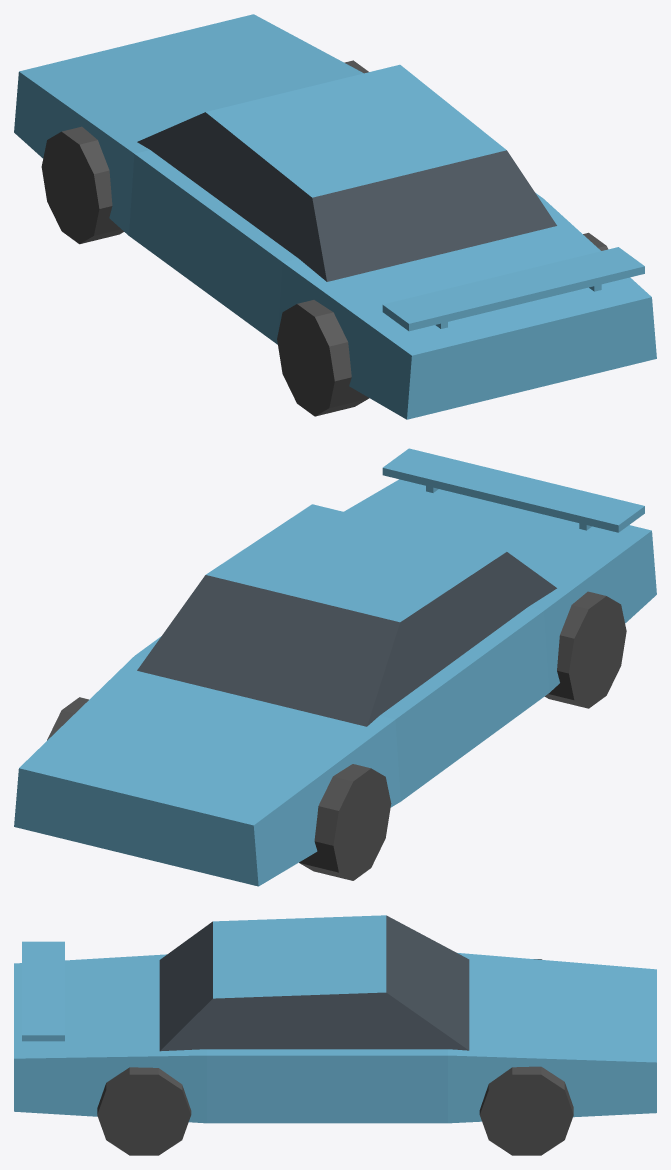
The picture shows the model from 3 angles, top to bottom: view 1: azimuth 30°, elevation 25°; view 2: azimuth 150°, elevation 25°; view 3: azimuth 270°, elevation 25°; orthographic projection. The views are drawn at different scales.
Parts seen in each view (by area): view 1: bmw_m3_body, bmw_m3_Wheel_RL, bmw_m3_Wheel_FL; view 2: bmw_m3_body, bmw_m3_Wheel_FL, bmw_m3_Wheel_RL; view 3: bmw_m3_body, bmw_m3_Wheel_FR, bmw_m3_Wheel_RR.
Part boxes in pixels (left/top/right/bottom): bmw_m3_body: left=14, top=14, right=656, bottom=419; bmw_m3_Wheel_RL: left=277, top=300, right=369, bottom=416; bmw_m3_Wheel_FL: left=41, top=126, right=123, bottom=244; bmw_m3_body: left=14, top=448, right=656, bottom=886; bmw_m3_Wheel_FL: left=299, top=764, right=391, bottom=880; bmw_m3_Wheel_RL: left=545, top=591, right=626, bottom=708; bmw_m3_body: left=14, top=915, right=656, bottom=1123; bmw_m3_Wheel_FR: left=479, top=1066, right=573, bottom=1155; bmw_m3_Wheel_RR: left=97, top=1067, right=191, bottom=1155.
Bounding box in the file's own units: 2.04 × 1.18 × 4.79.
